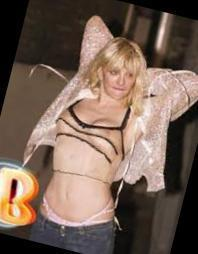Drunk: (105, 62, 135, 95)
